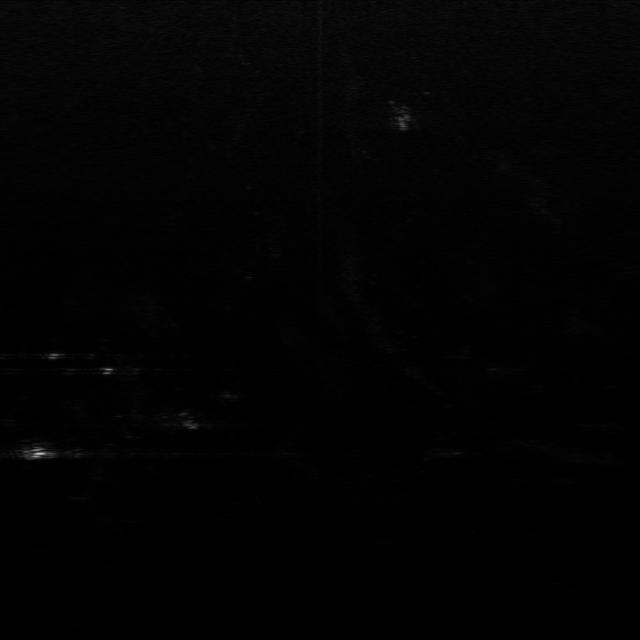rov: (17, 444, 59, 466)
